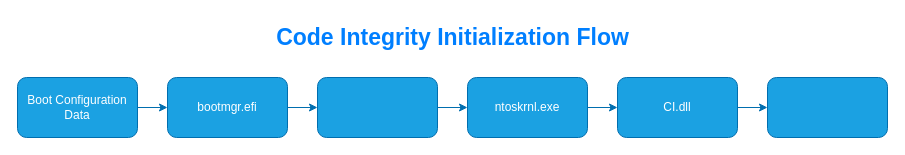
Some shapes in this 905 by 155 pixel diagram are drawn without their labels. Here are the shapes that lost their labels. From the top down, the box of each, then its label:
(316, 76, 438, 138): winload.efi
(766, 76, 888, 138): HAL .dll
